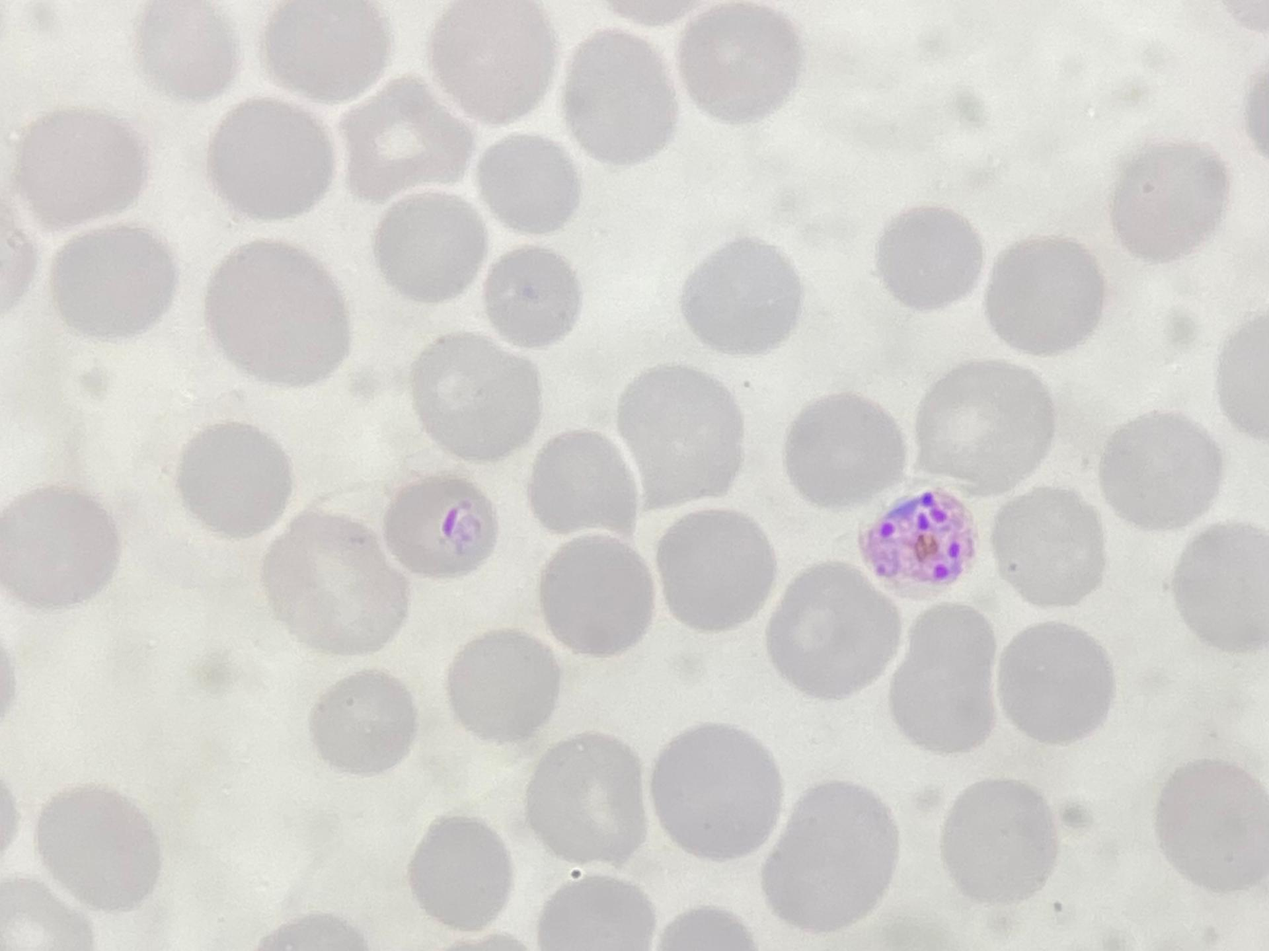Infected: (382, 475, 502, 580), (853, 492, 977, 592)
Uninfected: (202, 240, 353, 387), (256, 514, 410, 655), (761, 782, 898, 930), (648, 723, 783, 862), (765, 560, 900, 698), (613, 367, 746, 506), (340, 78, 480, 205), (913, 361, 1051, 489), (409, 332, 545, 461), (885, 603, 1001, 750), (13, 104, 149, 229), (522, 734, 650, 866), (206, 96, 338, 221), (32, 784, 161, 911), (49, 221, 180, 342), (426, 2, 556, 123), (1151, 757, 1269, 890), (937, 776, 1058, 905), (561, 32, 679, 164), (535, 531, 657, 656), (652, 508, 773, 632), (1, 483, 120, 609), (995, 619, 1113, 745), (677, 5, 800, 123), (174, 420, 295, 539), (783, 391, 906, 508), (679, 239, 802, 355), (985, 235, 1104, 354), (1098, 411, 1221, 526), (1110, 141, 1230, 258), (991, 488, 1104, 607), (262, 0, 388, 104), (406, 814, 516, 932), (1167, 521, 1268, 649), (377, 192, 488, 308), (444, 632, 558, 743), (527, 429, 642, 536), (875, 206, 985, 312), (308, 671, 417, 775), (475, 132, 582, 232), (135, 1, 241, 101), (485, 247, 580, 351), (534, 873, 654, 948), (656, 905, 757, 949)
